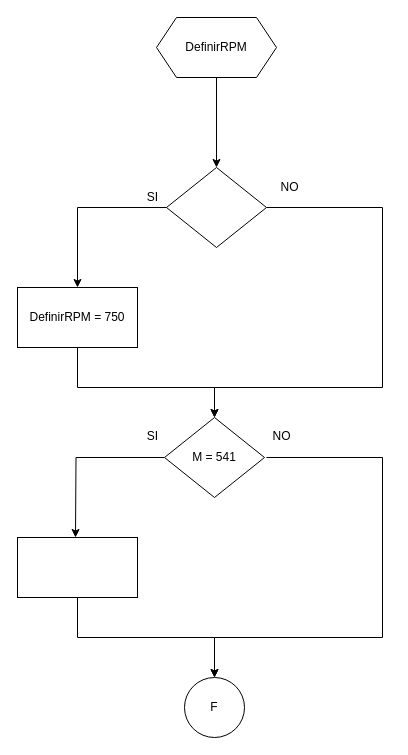
Some shapes in this 408 by 755 pixel diagram are drawn without their labels. Each missing label, with the box of its shape:
DefinirRPM = 12500: (16, 536, 138, 598)
M = 1: (166, 166, 266, 248)
